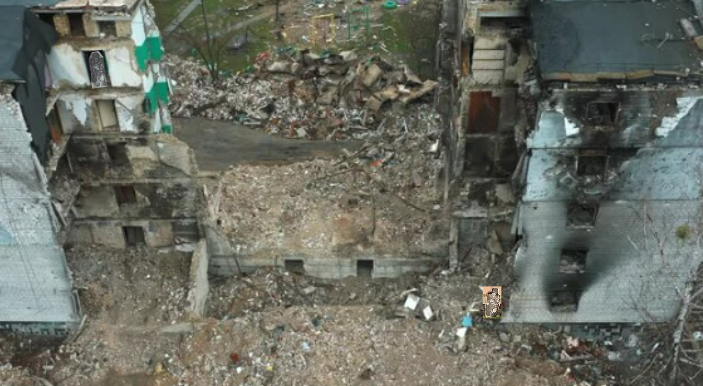HVT1: (89, 51, 107, 87), (487, 288, 500, 318)
